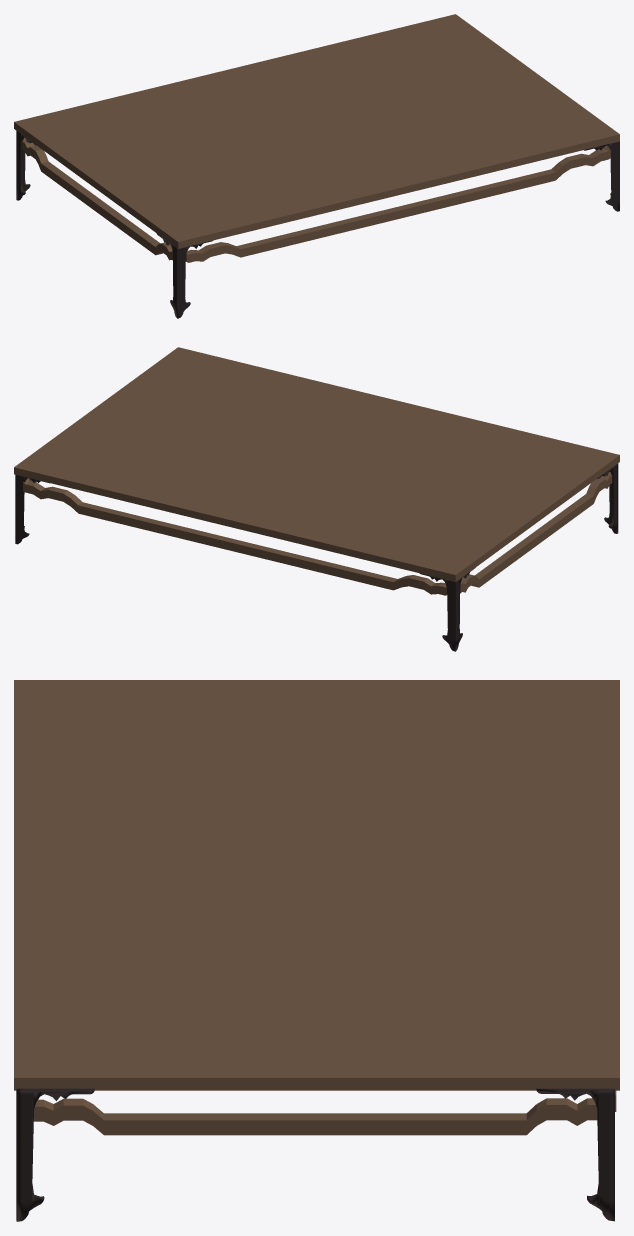
Rendered from Table.fbx.
The picture shows the model from 3 angles, top to bottom: view 1: azimuth 30°, elevation 25°; view 2: azimuth 150°, elevation 25°; view 3: azimuth 270°, elevation 25°; orthographic projection. The views are drawn at different scales.
Parts seen in each view (by area): view 1: Cube.004; view 2: Cube.004; view 3: Cube.004.
Part boxes in pixels (x1,y1,x2,y2): Cube.004: (14,14,619,318); Cube.004: (14,347,619,651); Cube.004: (14,680,619,1221).
Bounding box in the file's own units: 1118 × 188 × 718.
